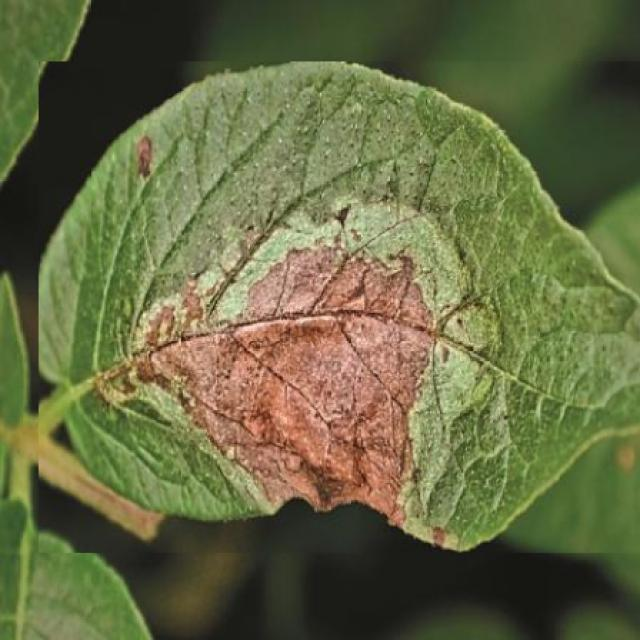Late Blight: (38, 61, 640, 552)
